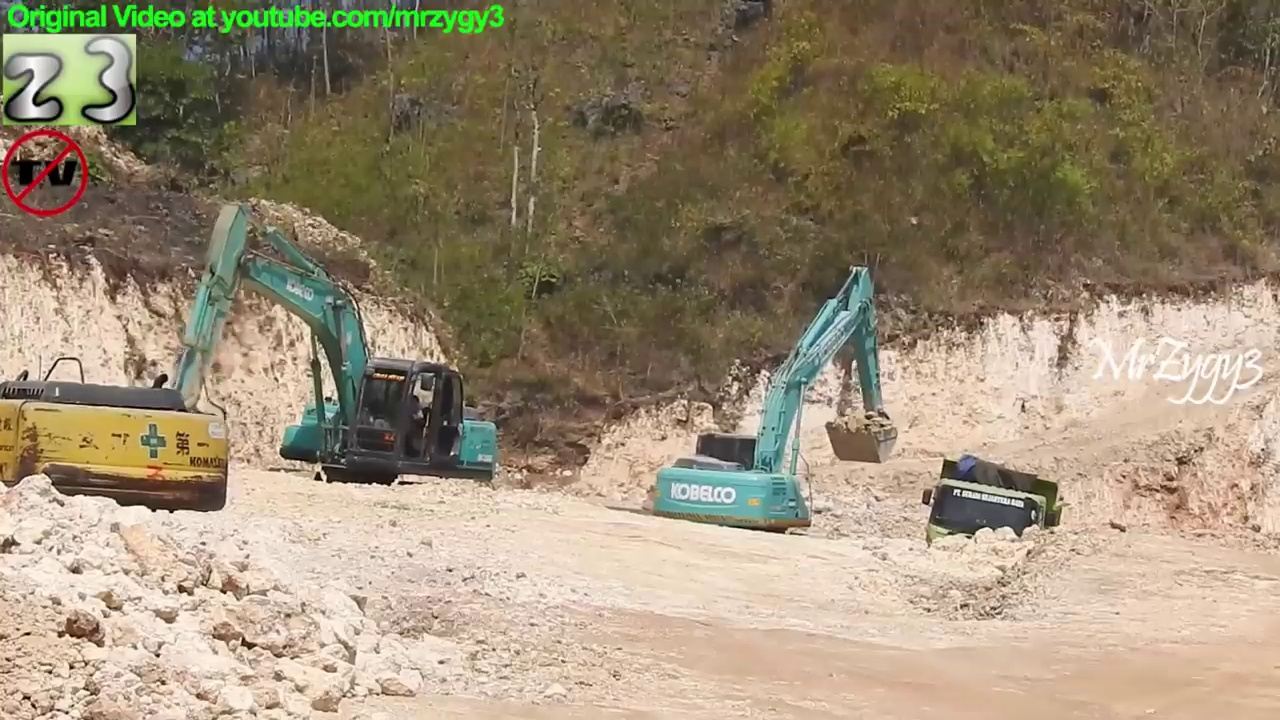excavator: (129, 198, 507, 527), (641, 258, 905, 572), (1, 351, 234, 521), (916, 450, 1072, 598)
